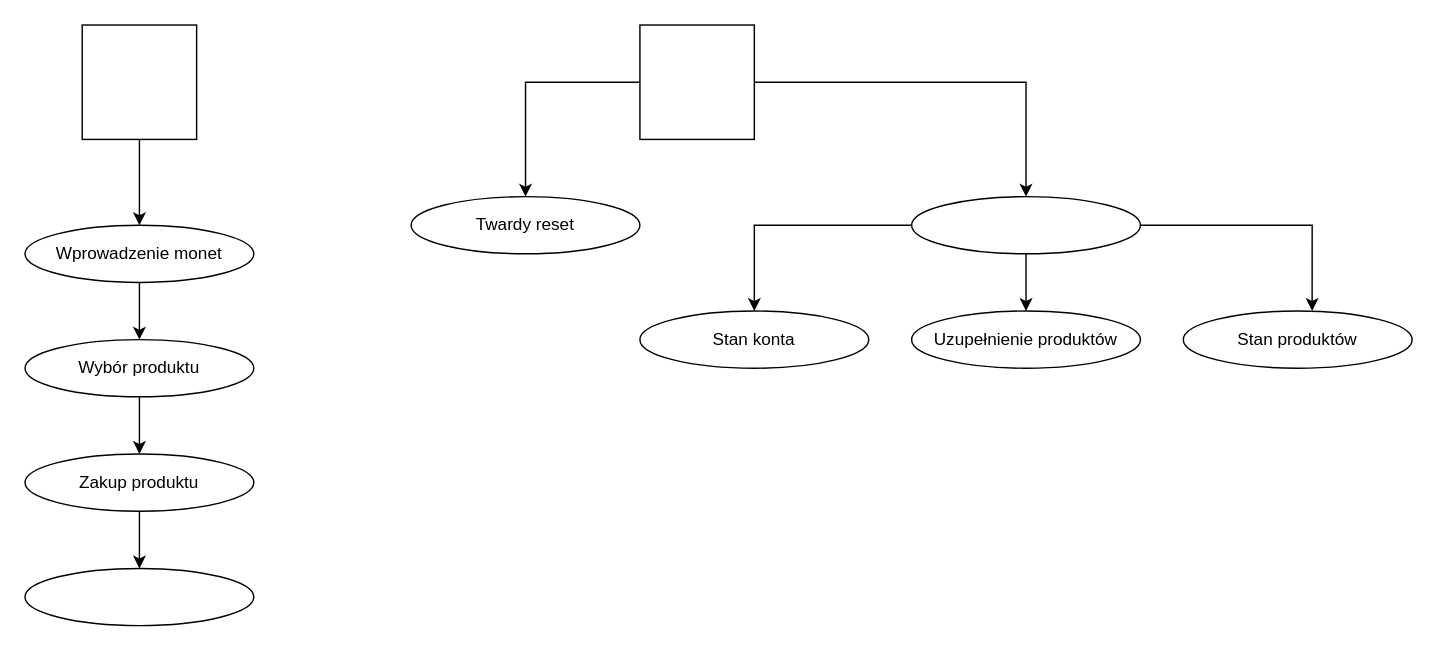
Image size: 1437x651. Some labels were removed from this diagram. Here are the shapes that lost their labels. From the top down, the centre of each, then its label:
At pixel 139 81: "Klient".
At pixel 696 81: "Serwisant".
At pixel 1025 224: "Wprowadzenie hasła".
At pixel 139 596: "Odbiór produktu".
